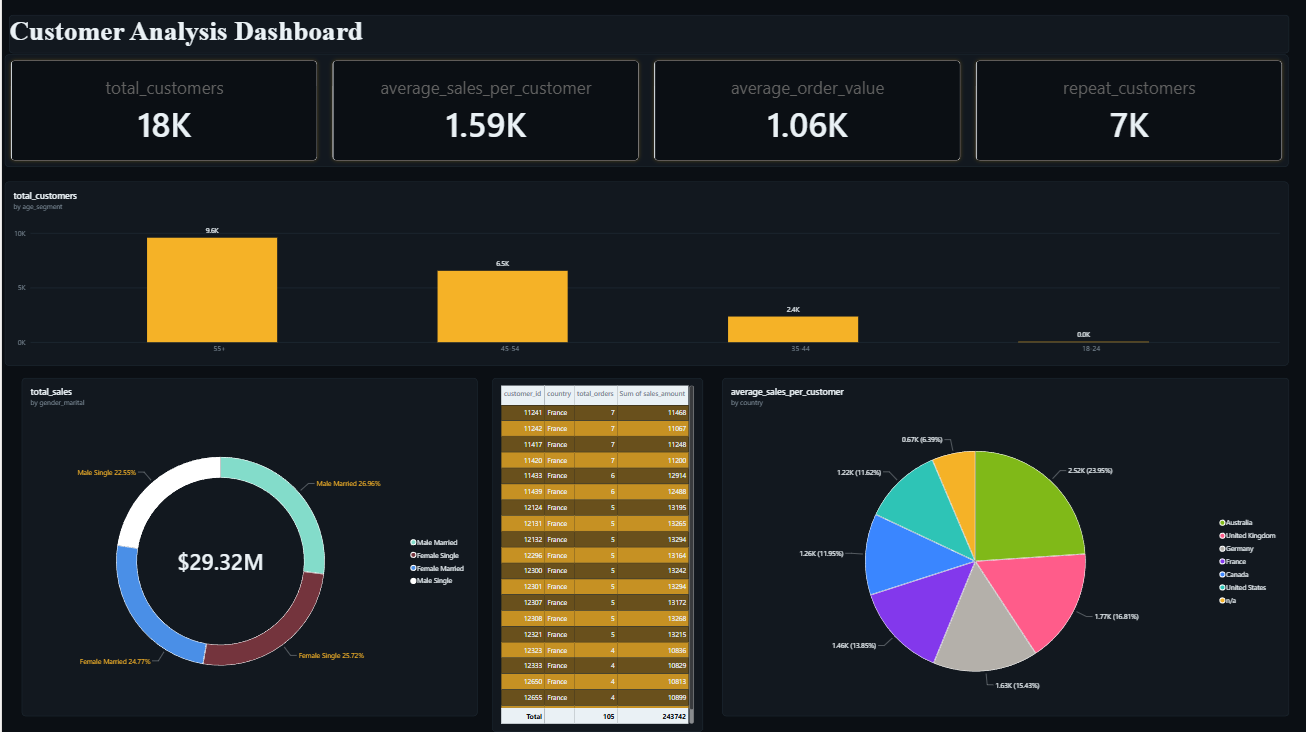

The dashboard page shown, as its layout file describes it:
{"tool":"powerbi","page":{"name":"Page 2","canvas":[2560,1440],"ordinal":1},"visuals":[{"type":"cardVisual","fields":{"Data":["_measures.total_customers","_measure.average_sales_per_customer","_measure.average_order_value","_measure.repeat_customers"]},"box":[5,110,2515,220],"z":0},{"type":"textbox","box":[12.5,32.5,2507.5,75],"z":1000},{"type":"clusteredColumnChart","fields":{"Category":["gold dim_customers.age_segment"],"Y":["_measure.total_customers"]},"box":[5,360,2515,360],"z":2000},{"type":"donutChart","fields":{"Category":["gold dim_customers.gender_marital"],"Y":["_measure.total_sales"]},"box":[37.5,745,892.5,662.5],"z":3000},{"type":"tableEx","fields":{"Values":["gold dim_customers.customer_id","gold dim_customers.country","_measure.total_orders","Sum(gold fact_sales.sales_amount)"]},"box":[960,745,412.5,695],"z":4000},{"type":"pieChart","fields":{"Category":["gold dim_customers.country"],"Y":["_measure.average_sales_per_customer"]},"box":[1410,745,1110,662.5],"z":5000}]}

Visuals, with their boxes in screenshot pixels (x1, y1, x2, y2), scaled from the page's 2560x1440 canvas onto the 1306x732 screenshot:
cardVisual - _measures.total_customers x _measure.average_sales_per_customer: [left=3, top=56, right=1286, bottom=168]
textbox: [left=6, top=17, right=1286, bottom=55]
clusteredColumnChart - gold dim_customers.age_segment x _measure.total_customers: [left=3, top=183, right=1286, bottom=366]
donutChart - gold dim_customers.gender_marital x _measure.total_sales: [left=19, top=379, right=474, bottom=715]
tableEx - gold dim_customers.customer_id x gold dim_customers.country: [left=490, top=379, right=700, bottom=731]
pieChart - gold dim_customers.country x _measure.average_sales_per_customer: [left=719, top=379, right=1286, bottom=715]
